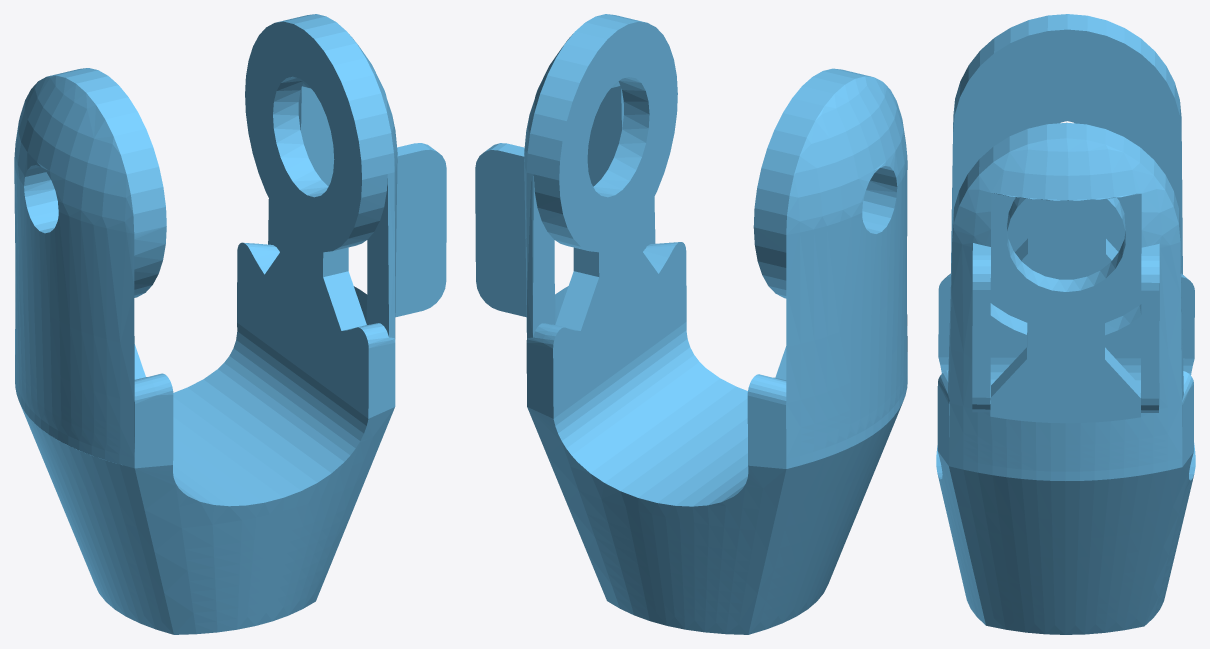
Rendered from niryo_one_visible_5_vis_3.dae.
The picture shows the model from 3 angles, left to right: view 1: azimuth 30°, elevation 25°; view 2: azimuth 150°, elevation 25°; view 3: azimuth 270°, elevation 25°; orthographic projection. The views are drawn at different scales.
Parts seen in each view (by area): view 1: Node_00000276BF539540; view 2: Node_00000276BF539540; view 3: Node_00000276BF539540.
Part boxes in pixels (box(x1,y1,x2,y2)): Node_00000276BF539540: box(14, 14, 446, 634); Node_00000276BF539540: box(475, 14, 907, 634); Node_00000276BF539540: box(936, 14, 1195, 634).
Bounding box in the file's own units: 0.0774 × 0.1103 × 0.05.
